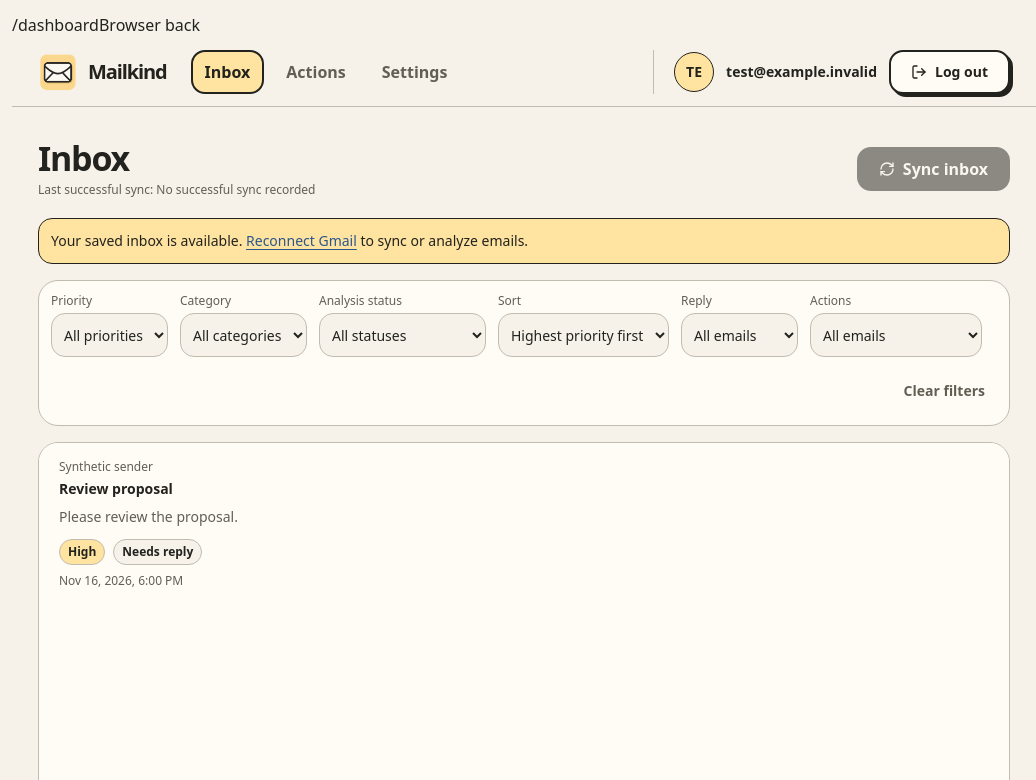
keeps browsing available during reauthorization and disables processing
Check: the button "Sync inbox" is disabled, box left=857, top=147, right=1010, bottom=191
Click the button "Review proposal" at (526, 524), box left=43, top=444, right=1009, bottom=606
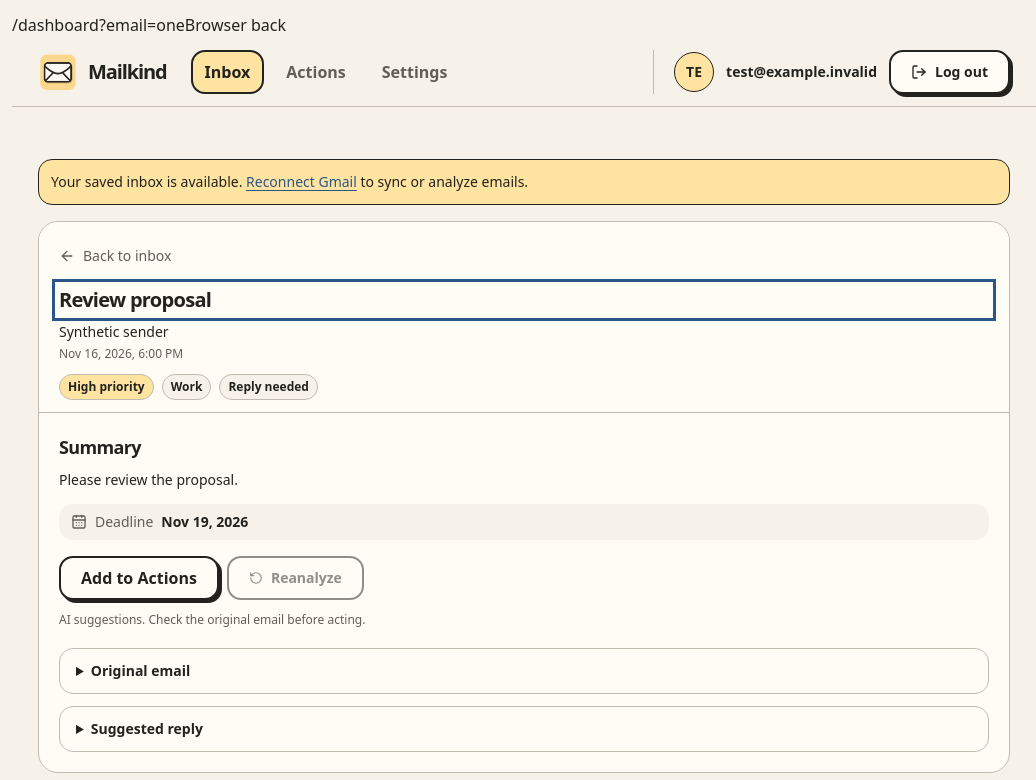
Check: the button "Reanalyze" is disabled, box left=227, top=556, right=364, bottom=600
